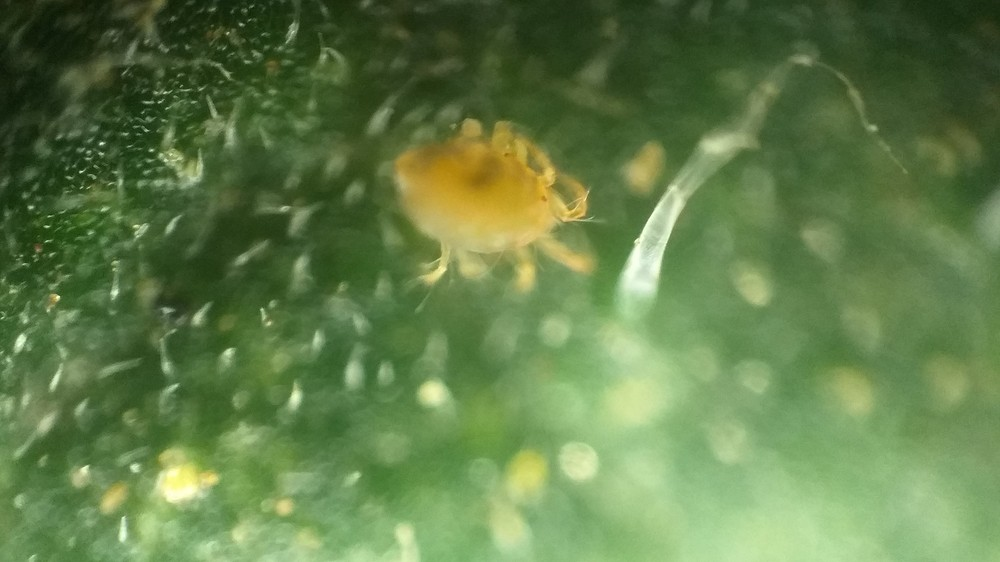Aracnido Rojo: (333, 94, 631, 315)
